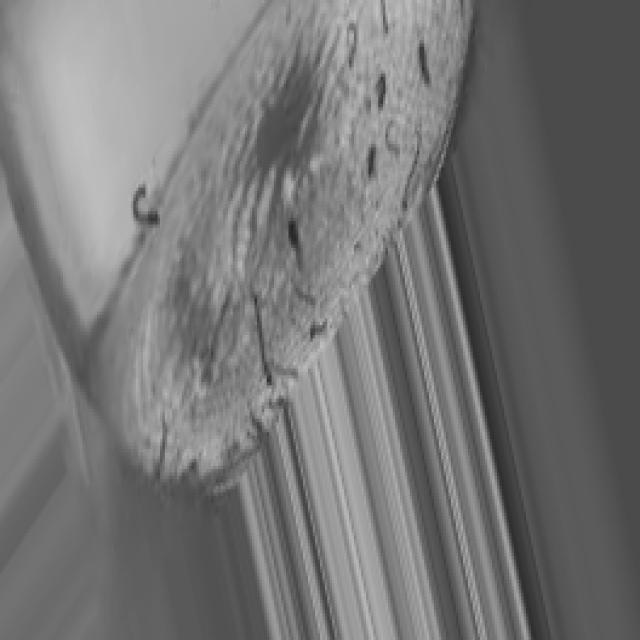larvas: (202, 285, 230, 381), (253, 291, 270, 389), (402, 127, 420, 204), (130, 182, 161, 224), (156, 414, 170, 476), (290, 278, 318, 308), (416, 40, 431, 84), (288, 219, 302, 261), (385, 122, 399, 154), (308, 316, 326, 338), (348, 25, 357, 69), (376, 76, 387, 108), (378, 1, 389, 32)
